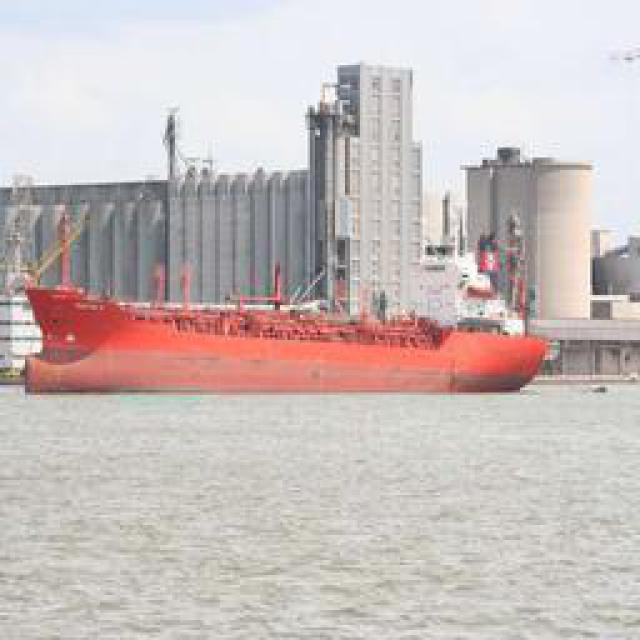Ship: (18, 293, 566, 388)
